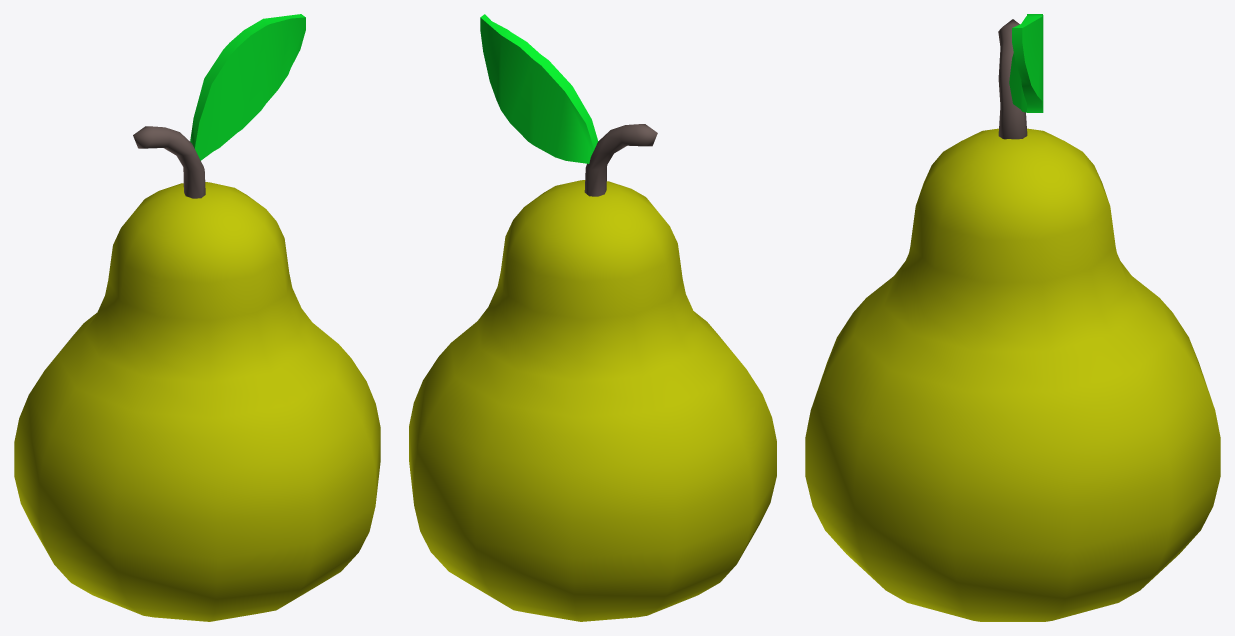
File: pear.glb
3 views of the same model, side by side, from view 1: azimuth 30°, elevation 25°; view 2: azimuth 150°, elevation 25°; view 3: azimuth 270°, elevation 25° (orthographic). The views are drawn at different scales.
Size of the model in its own units: 0.4763 by 0.79 by 0.4812.
